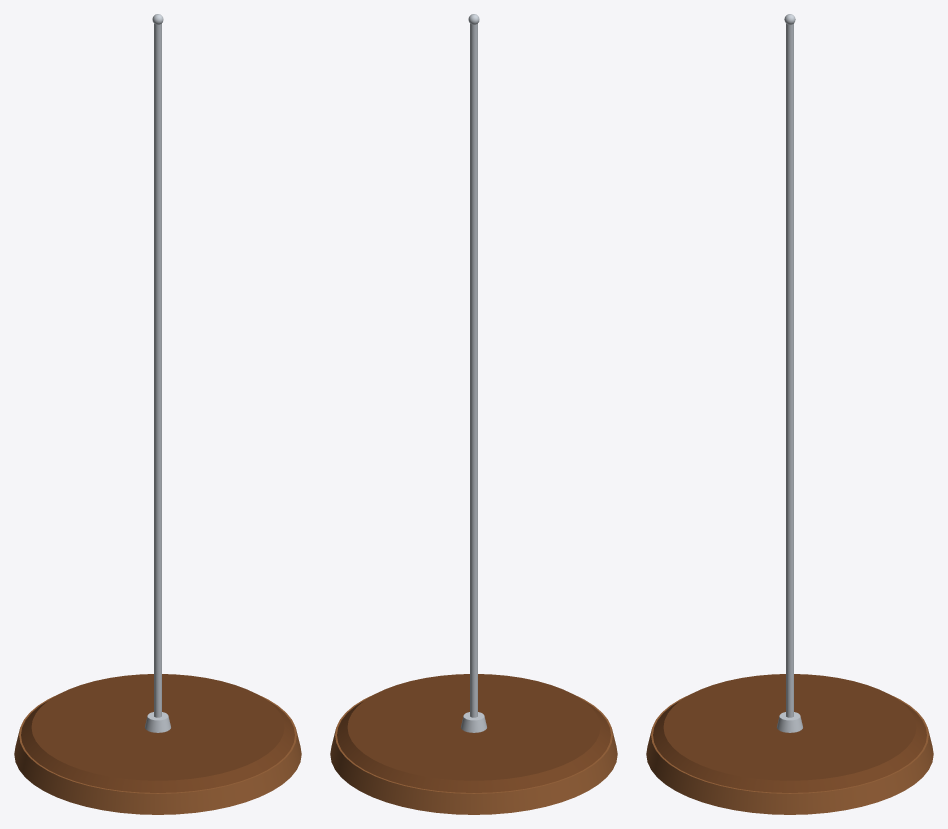
File: baza_druri.glb
3 views of the same model, side by side, from view 1: azimuth 30°, elevation 25°; view 2: azimuth 150°, elevation 25°; view 3: azimuth 270°, elevation 25° (orthographic).
Parts seen in each view (by area): view 1: Baza_Druri_Dhe_Boshti; view 2: Baza_Druri_Dhe_Boshti; view 3: Baza_Druri_Dhe_Boshti.
Boxes of the visible parts, x1,y1,x2,y2 form: Baza_Druri_Dhe_Boshti: (14,14,301,814); Baza_Druri_Dhe_Boshti: (330,14,617,814); Baza_Druri_Dhe_Boshti: (646,14,933,814).
Bounding box in the file's own units: 10.5 × 29.81 × 10.5.
